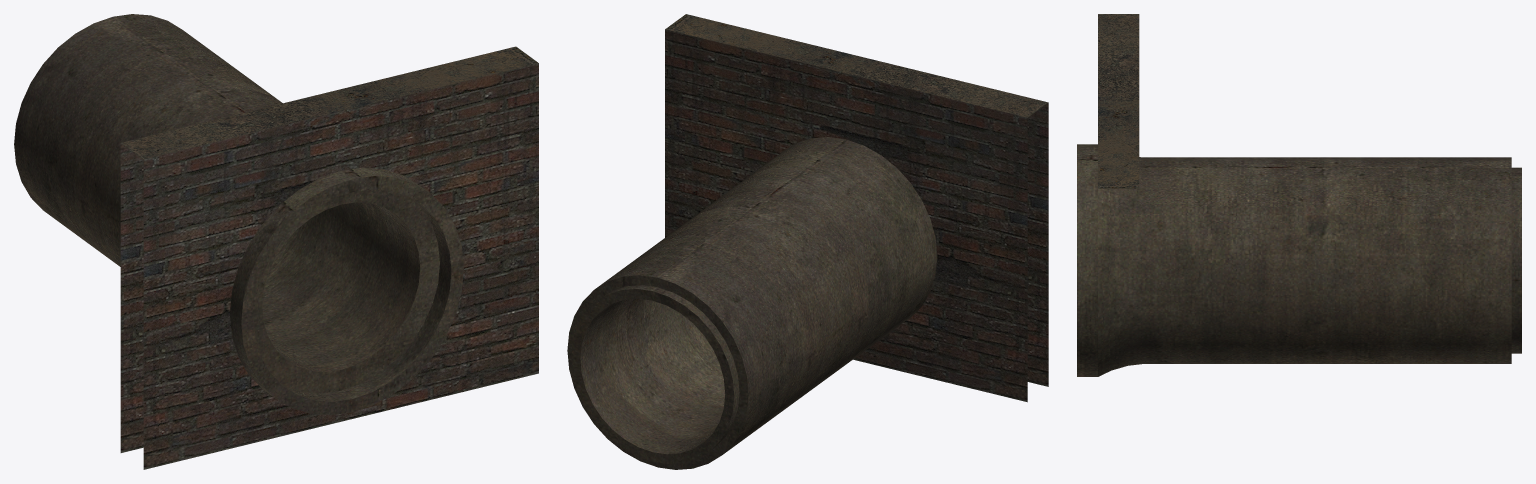
The model's file is wall_hs_1_hole_2.obj.
The picture shows the model from 3 angles, left to right: view 1: azimuth 30°, elevation 25°; view 2: azimuth 150°, elevation 25°; view 3: azimuth 270°, elevation 25°; orthographic projection. The views are drawn at different scales.
Parts seen in each view (by area): view 1: wall_hs_1_hole_2; view 2: wall_hs_1_hole_2; view 3: wall_hs_1_hole_2.
Part boxes in pixels (x1,y1,x2,y2): wall_hs_1_hole_2: (14,14,538,469); wall_hs_1_hole_2: (567,14,1048,469); wall_hs_1_hole_2: (1077,14,1521,376).
Bounding box in the file's own units: 4 × 3 × 4.3.
